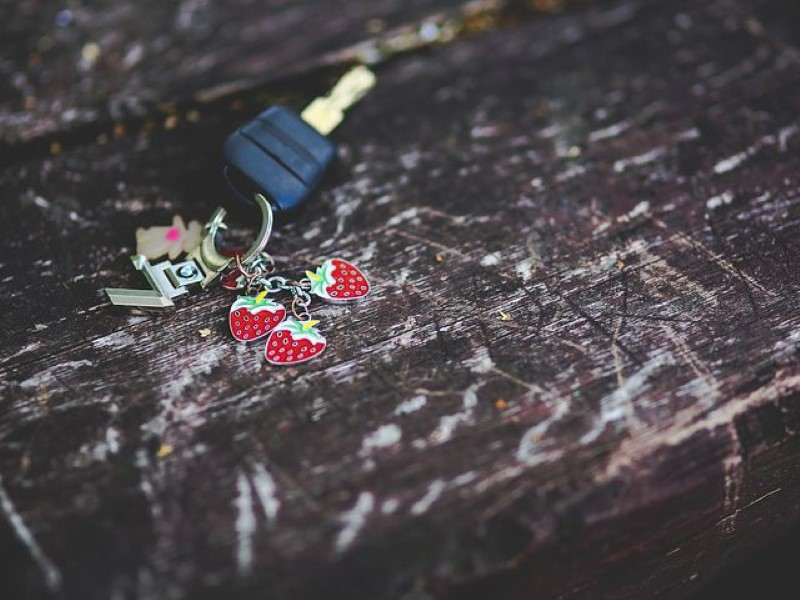carkey: (217, 53, 376, 221)
